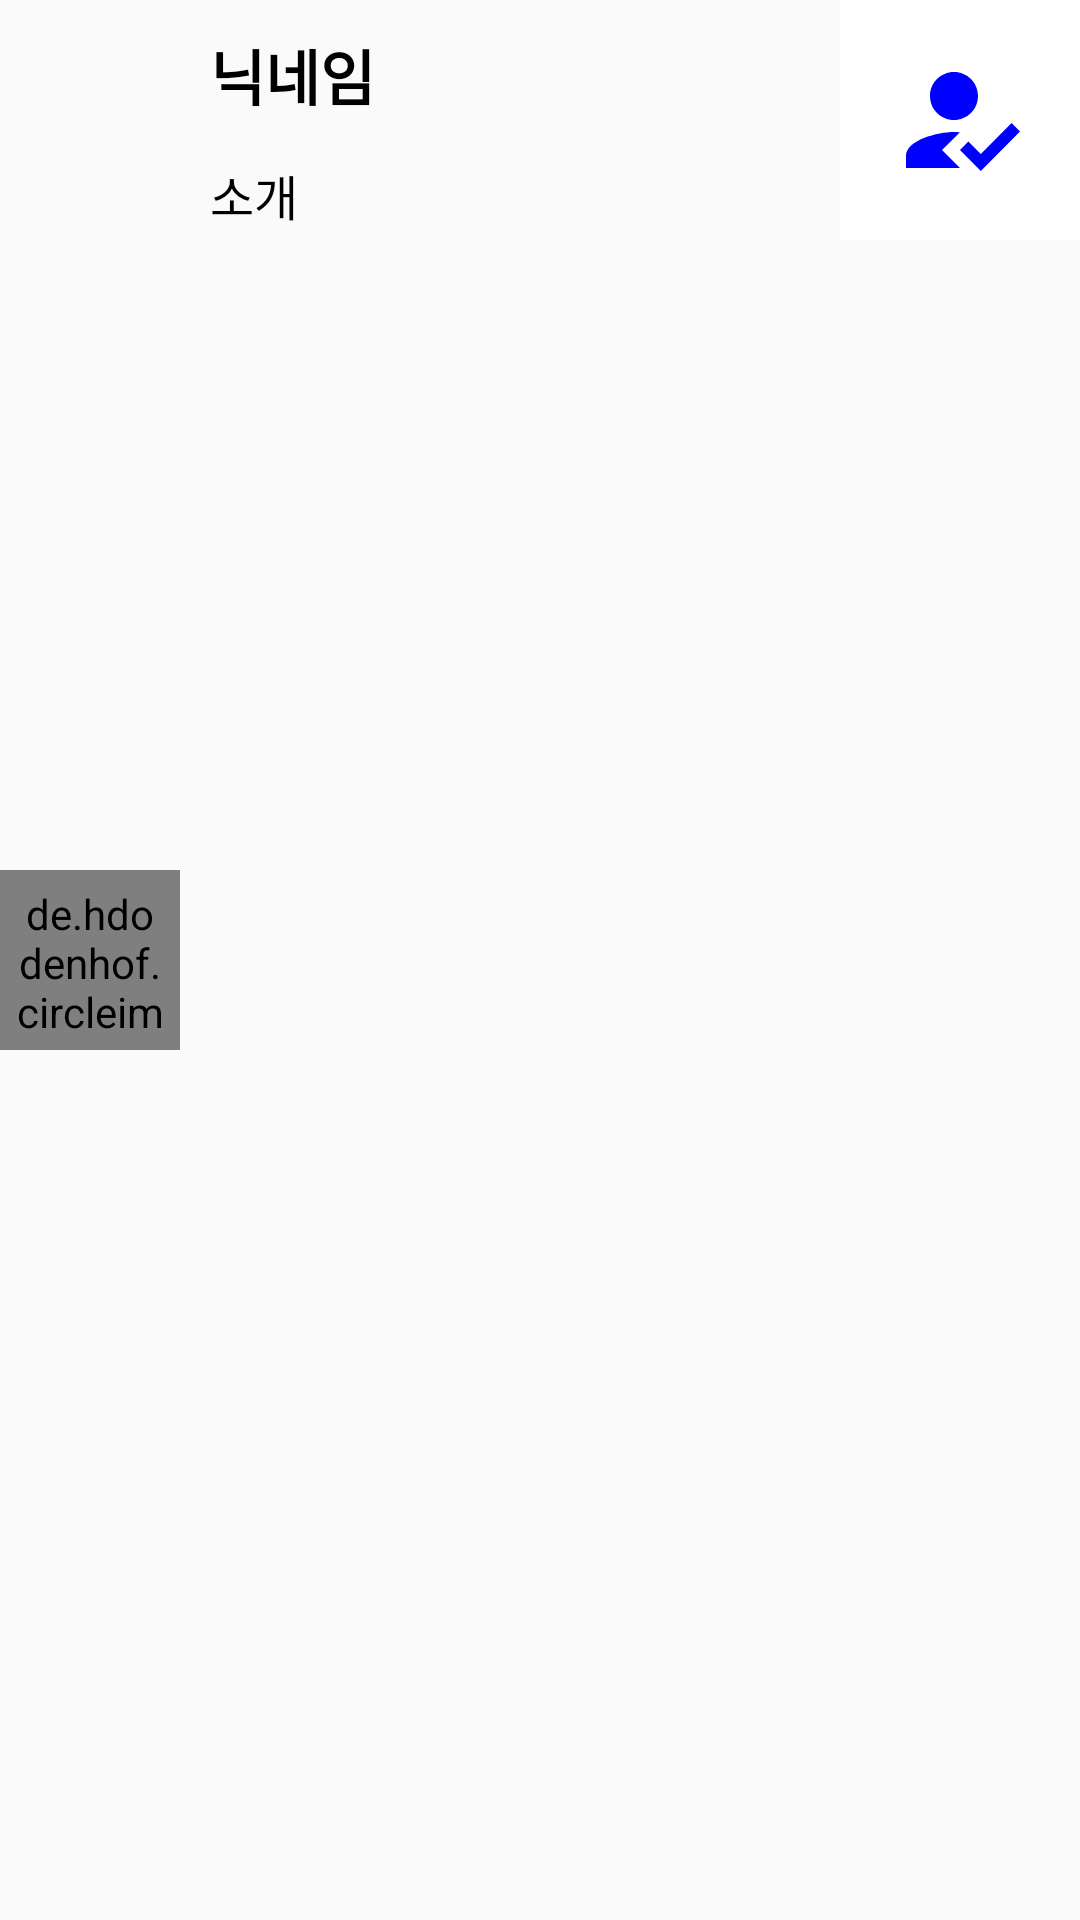

Icons on this 1080×1920 Android screen, each with the point to tap as (x,y):
how to reg: (963,121)
